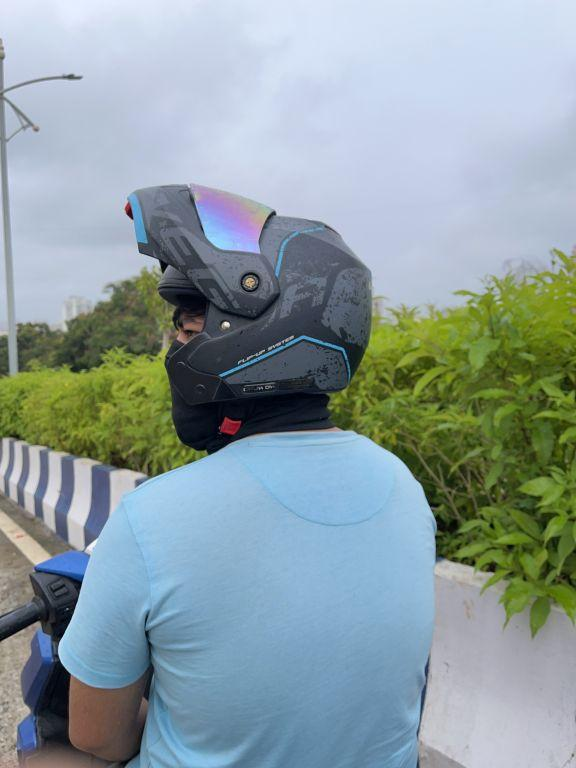helmet: (115, 170, 389, 462)
